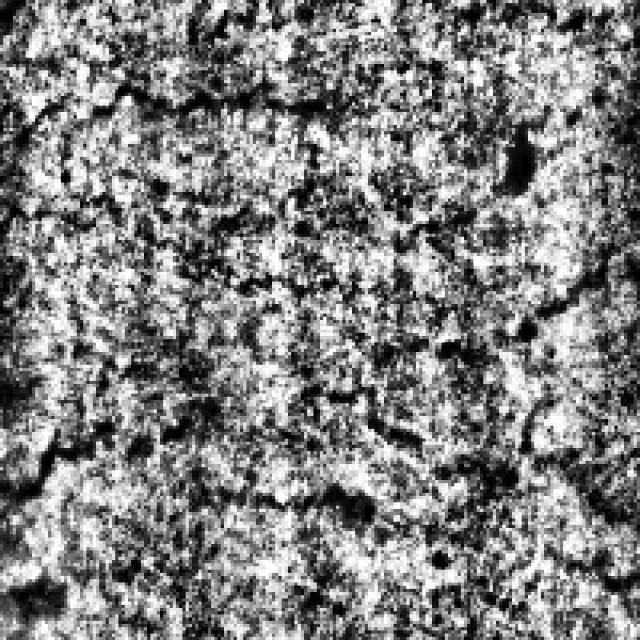Pitted_Surface: (3, 243, 637, 525), (0, 70, 336, 246)
